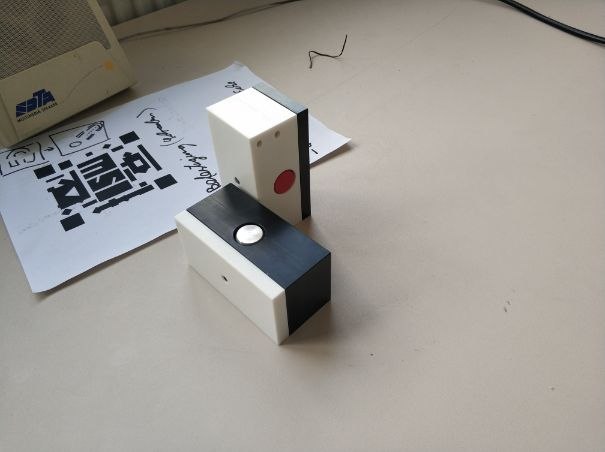black+white+red: (205, 79, 311, 227)
white+black+silver: (172, 182, 334, 347)
